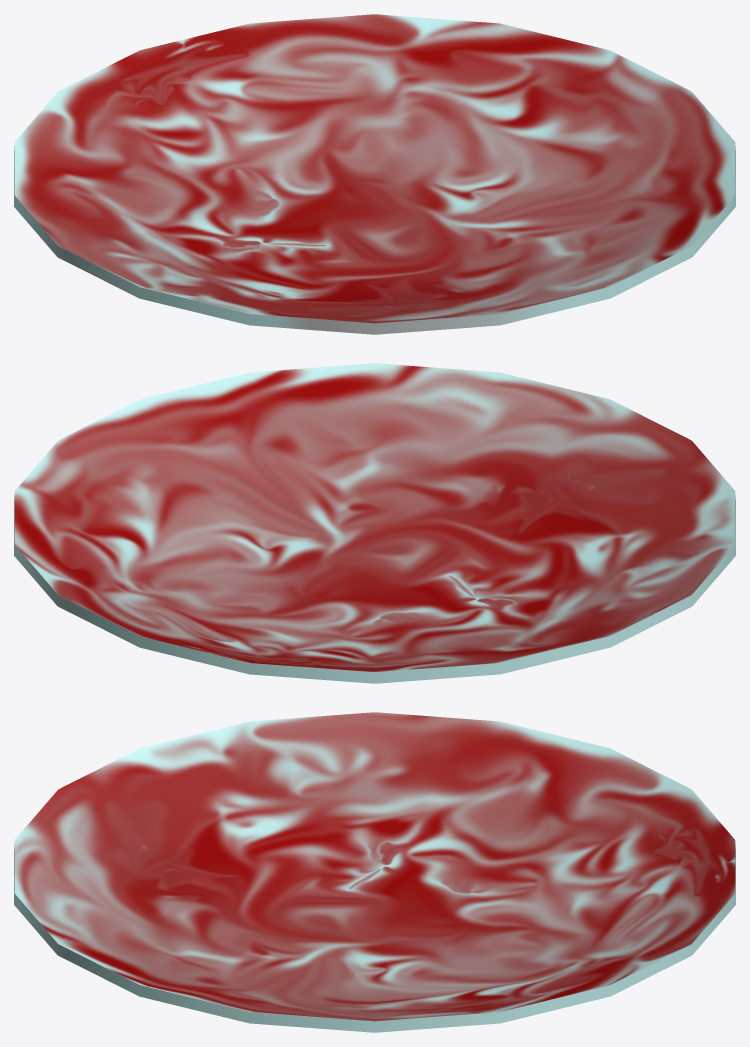
The model's file is DirtyDish.FBX.
3 renders of one model, top to bottom at view 1: azimuth 30°, elevation 25°; view 2: azimuth 150°, elevation 25°; view 3: azimuth 270°, elevation 25°, orthographic.
Parts seen in each view (by area): view 1: Cylinder001; view 2: Cylinder001; view 3: Cylinder001.
Boxes of the visible parts, x1,y1,x2,y2 form: Cylinder001: (14,14,735,334); Cylinder001: (14,363,735,683); Cylinder001: (14,712,735,1032).
Bounding box in the file's own units: 100 × 98.59 × 10.13.
Materials: 1 (1 with a texture image).
